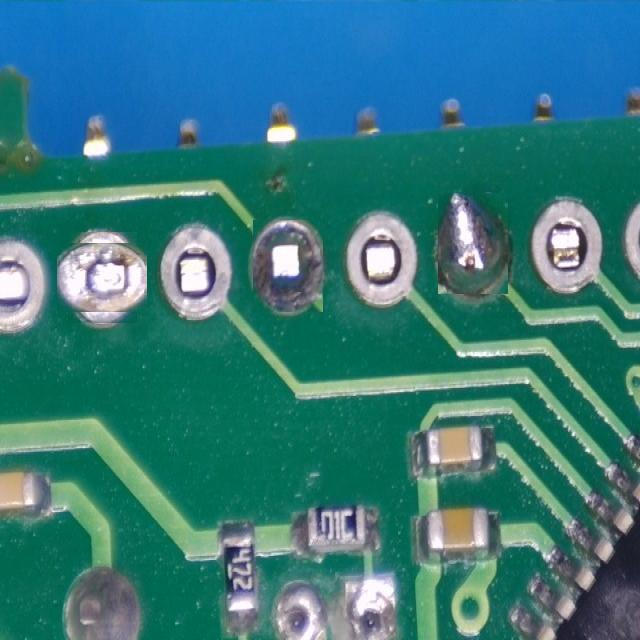Dry_joint: (439, 193, 506, 294), (253, 220, 323, 312), (57, 243, 146, 312)
